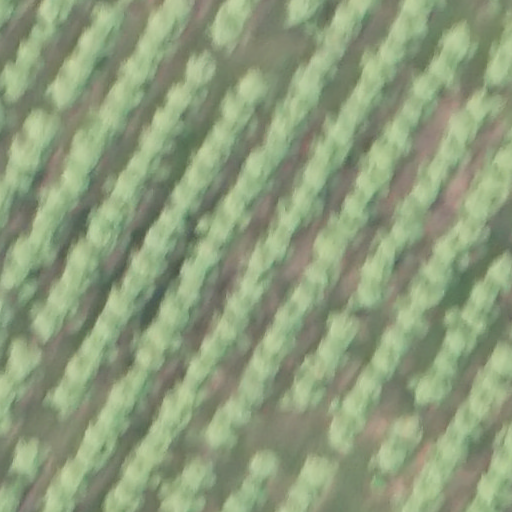eucalipto: (206, 398, 252, 449), (410, 264, 450, 312), (6, 336, 45, 383), (434, 416, 470, 465), (469, 373, 508, 418), (389, 199, 426, 246), (444, 315, 484, 358), (7, 433, 46, 477), (464, 181, 506, 221), (311, 225, 350, 268), (11, 134, 52, 174), (79, 214, 121, 253), (104, 283, 145, 322), (440, 23, 479, 64), (455, 403, 496, 442), (1, 155, 39, 197), (272, 98, 312, 137), (25, 107, 64, 146), (65, 246, 104, 285), (238, 146, 276, 186), (158, 391, 195, 432), (70, 127, 105, 170), (143, 322, 186, 357), (155, 296, 194, 334), (411, 463, 447, 503), (131, 245, 172, 279), (324, 411, 358, 452), (137, 125, 179, 158), (241, 368, 278, 405), (182, 49, 218, 87), (299, 155, 335, 193), (205, 116, 244, 151), (333, 3, 368, 42), (389, 12, 428, 47), (238, 65, 272, 105), (374, 438, 408, 478), (134, 33, 175, 66), (102, 78, 143, 111), (1, 60, 33, 102), (93, 308, 130, 344), (104, 383, 140, 420), (219, 88, 257, 123), (180, 458, 218, 493), (91, 407, 132, 439), (47, 281, 83, 317), (414, 372, 450, 408), (29, 305, 63, 343), (272, 299, 310, 333), (248, 339, 282, 377), (291, 185, 324, 224), (463, 92, 502, 125), (219, 194, 254, 230), (302, 452, 338, 487), (122, 267, 159, 301), (352, 76, 389, 110), (261, 229, 295, 266), (150, 106, 189, 138), (117, 57, 160, 86), (142, 223, 183, 253), (288, 66, 323, 101), (211, 14, 245, 50), (146, 8, 179, 45), (305, 50, 338, 87), (339, 189, 372, 226), (81, 336, 116, 370), (264, 126, 299, 160), (145, 417, 180, 451), (193, 144, 234, 173), (110, 174, 146, 207), (230, 174, 263, 210), (456, 217, 492, 250), (123, 148, 160, 180), (63, 353, 100, 385), (375, 34, 413, 65), (98, 197, 132, 231), (170, 177, 204, 211), (469, 281, 504, 314), (436, 136, 468, 172), (304, 347, 336, 383), (397, 308, 433, 340), (136, 433, 173, 464), (384, 120, 414, 158), (431, 234, 461, 272), (360, 54, 399, 83), (60, 55, 94, 88), (273, 195, 301, 235), (364, 140, 399, 172), (14, 42, 50, 73), (346, 285, 385, 313), (353, 371, 386, 404), (50, 78, 84, 110), (96, 103, 128, 137), (155, 205, 189, 237), (354, 167, 385, 202), (315, 27, 347, 60), (446, 113, 479, 145), (380, 322, 412, 355), (78, 28, 112, 59), (339, 96, 374, 126), (487, 253, 512, 294), (167, 83, 198, 116), (132, 343, 166, 373), (399, 94, 429, 128), (490, 338, 512, 384), (300, 262, 336, 290), (184, 162, 216, 193), (246, 449, 278, 480), (339, 391, 370, 423), (393, 415, 425, 446), (61, 165, 94, 195), (124, 457, 158, 486), (328, 314, 362, 343), (260, 329, 295, 357), (330, 214, 361, 245), (199, 333, 229, 365), (480, 58, 512, 88), (372, 233, 402, 265), (358, 256, 392, 284), (283, 1, 321, 26), (494, 140, 512, 192), (430, 346, 461, 376), (224, 285, 256, 314), (28, 21, 62, 48), (37, 1, 73, 26), (370, 346, 399, 377), (216, 313, 244, 345), (409, 72, 441, 100), (289, 290, 322, 317), (91, 8, 126, 33), (427, 57, 457, 86), (224, 491, 264, 512), (283, 486, 315, 512), (184, 357, 210, 388), (399, 1, 435, 22), (160, 1, 194, 18)
